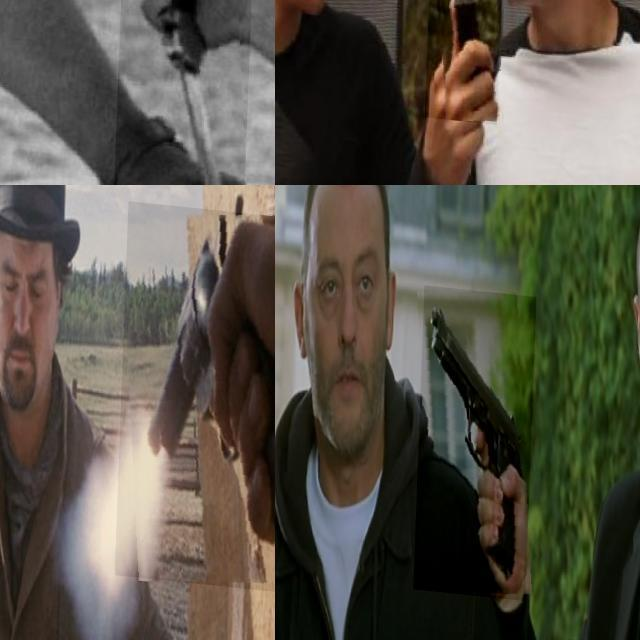-: (116, 0, 257, 185), (427, 0, 509, 172)
gun-knife-thesis - v11 Yolov5 augmented: (118, 194, 275, 585), (417, 278, 538, 591)
